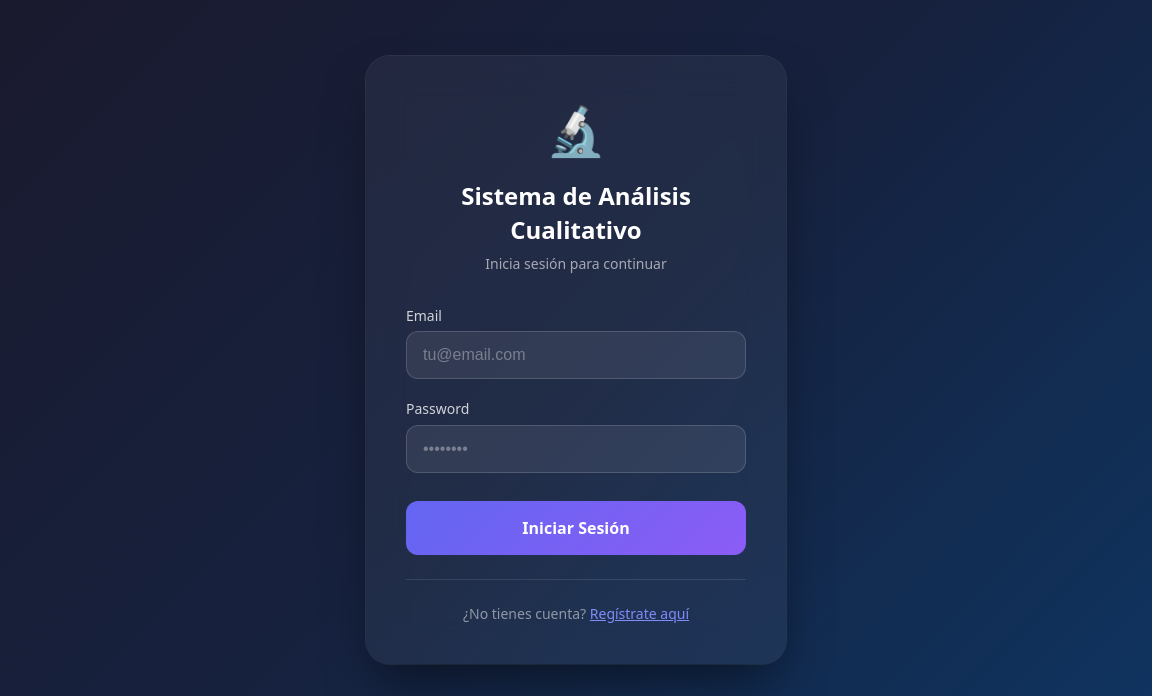
Test: AuthPage › shows password hint in register mode
# Switch to register
Click the button "Regístrate aquí" at (639, 614), box [590,604,689,624]
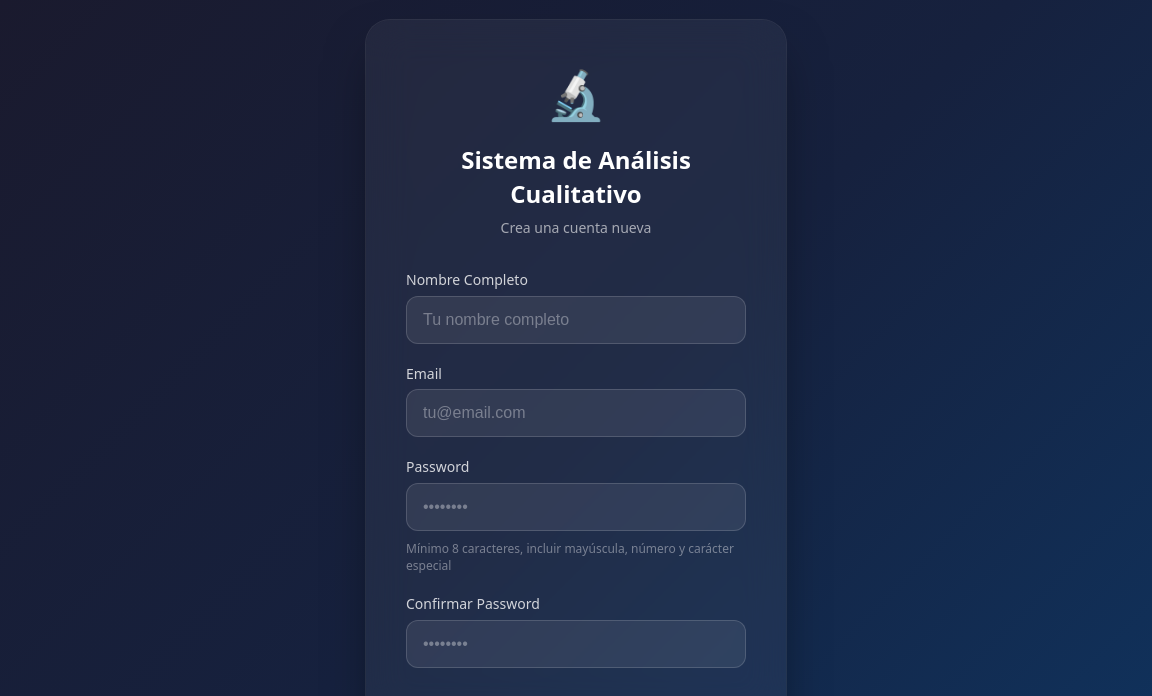
Check: the text "Mínimo 8 caracteres" is shown, box [406,540,734,574]
